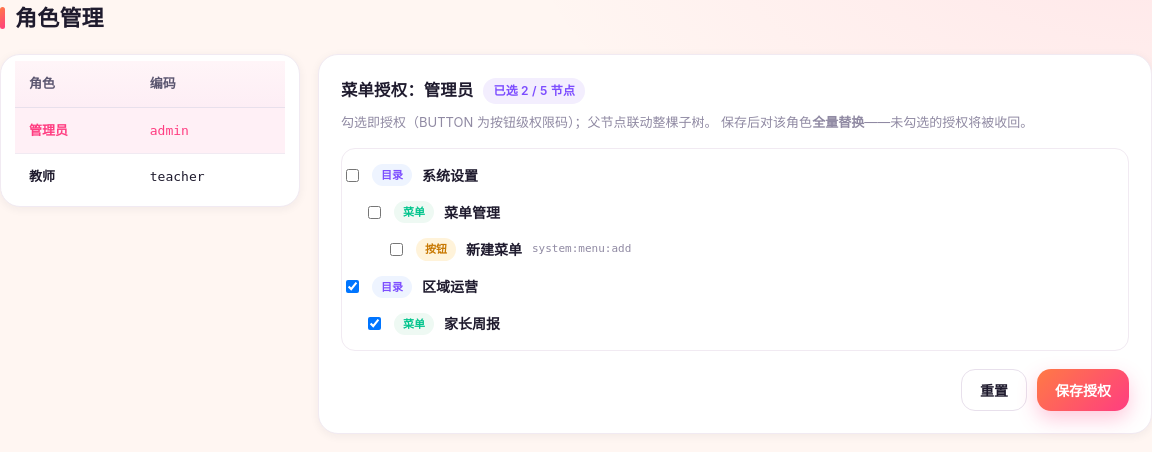
Scenario: SystemRole 角色管理页（T-AM4） › 勾选父节点联动整棵子树（三态复选框）
The image size is (1152, 452).
Expected: the checkbox labelled "目录 系统设置" is not checked, x1=346 y1=169 x2=359 y2=182
勾选「菜单管理」→ 子孙 BUTTON 一并选中，父「系统设置」变半选
Click the checkbox labelled "菜单 菜单管理" at (374, 212), box x1=368 y1=206 x2=381 y2=219
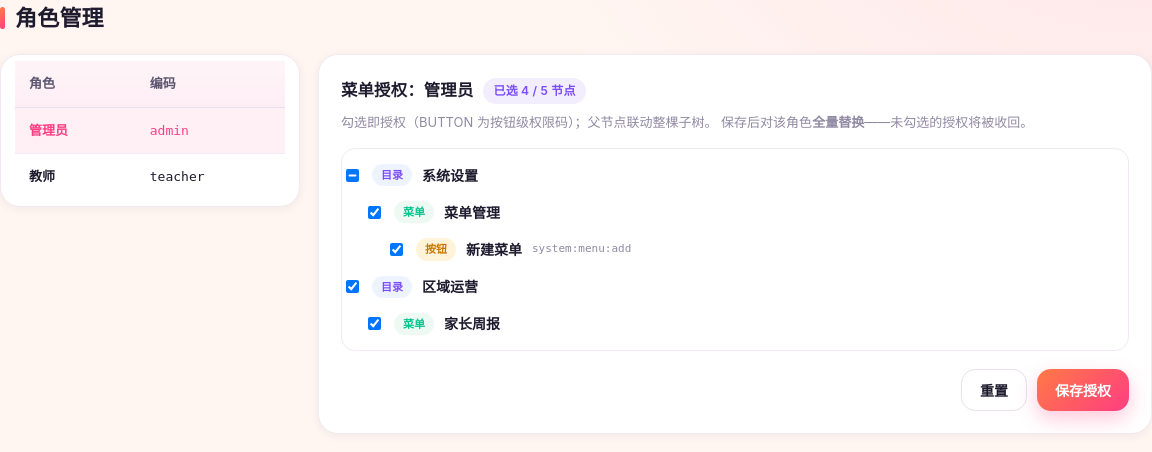
Now the checkbox labelled "菜单 菜单管理" is checked, box x1=368 y1=206 x2=381 y2=219
Now the checkbox labelled "按钮 新建菜单 system:menu:add" is checked, box x1=390 y1=243 x2=403 y2=256
Now the text with class "tes-tag" reads "已选 4 / 5 节点", box x1=494 y1=83 x2=576 y2=98
